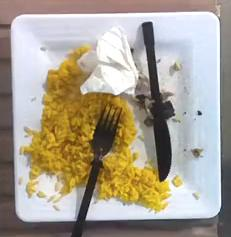rice: (21, 45, 109, 195), (98, 96, 170, 210)
